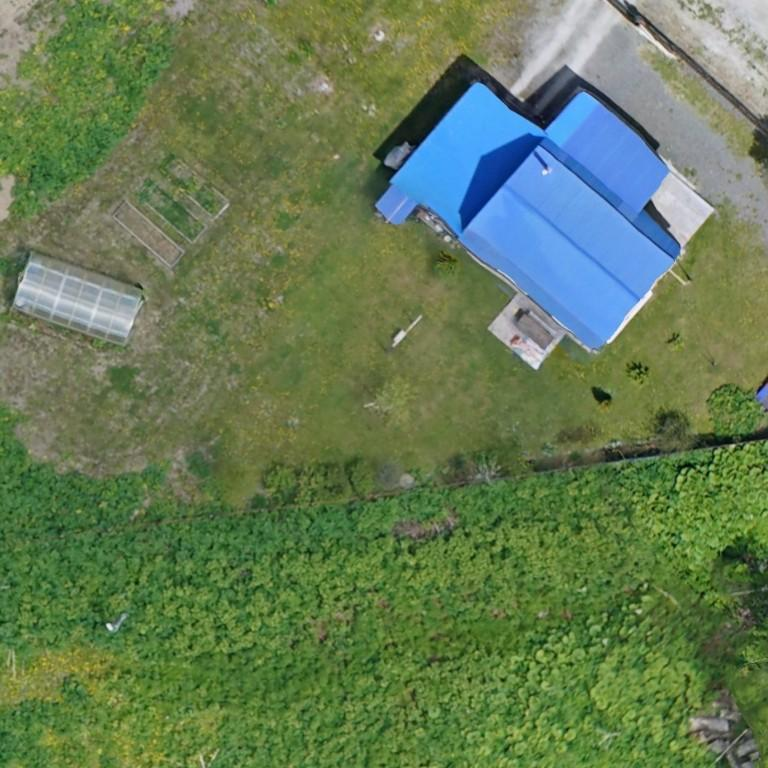hogweed: (0, 439, 664, 661), (3, 107, 119, 191), (0, 701, 68, 766), (63, 677, 89, 704)
